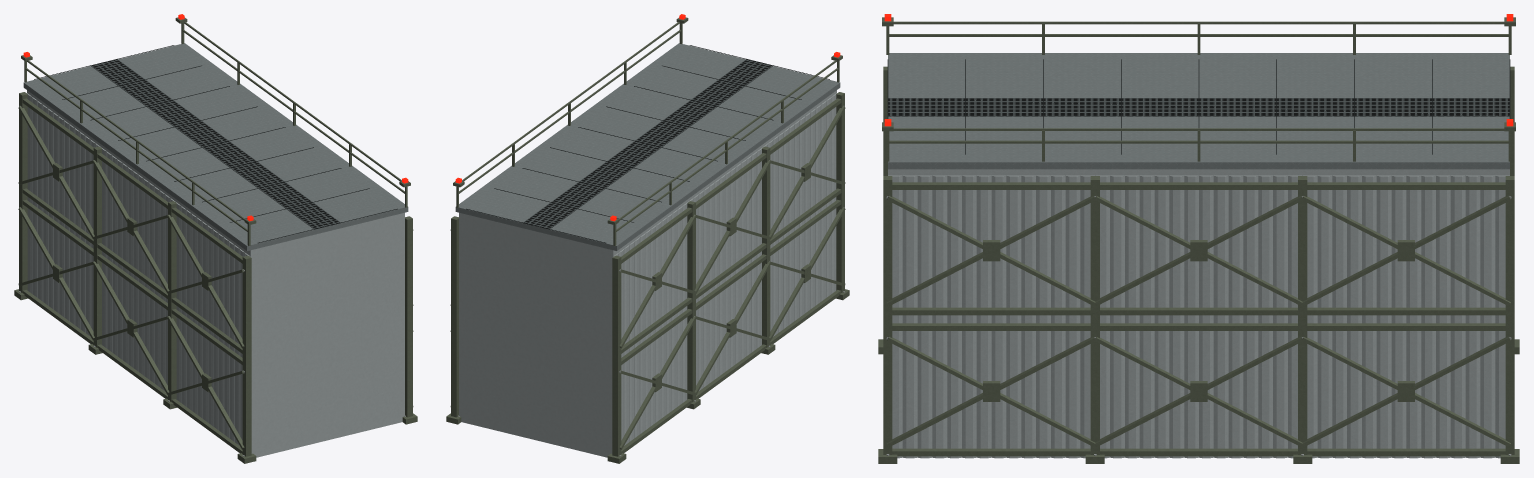
The model's file is straight.glb.
3 renders of one model, left to right at view 1: azimuth 30°, elevation 25°; view 2: azimuth 150°, elevation 25°; view 3: azimuth 270°, elevation 25°, orthographic. The views are drawn at different scales.
Visible parts, largest first — view 1: straight-lod0-roof0, straight-lod0-floor0, straight-lod0-base0; view 2: straight-lod0-roof0, straight-lod0-floor0, straight-lod0-base0; view 3: straight-lod0-floor0, straight-lod0-base0, straight-lod0-roof0.
Part boxes in pixels (<box>): straight-lod0-roof0: <box>21,14,410,256</box>; straight-lod0-floor0: <box>18,92,413,360</box>; straight-lod0-base0: <box>14,195,417,463</box>; straight-lod0-roof0: <box>453,14,842,256</box>; straight-lod0-floor0: <box>450,92,845,360</box>; straight-lod0-base0: <box>446,195,849,463</box>; straight-lod0-floor0: <box>883,66,1514,320</box>; straight-lod0-base0: <box>878,316,1519,463</box>; straight-lod0-roof0: <box>882,14,1515,175</box>.
Size of what is drawn, in the model's own units: 32.2 by 43.07 by 74.2.
Materials: 7 (7 with a texture image).
